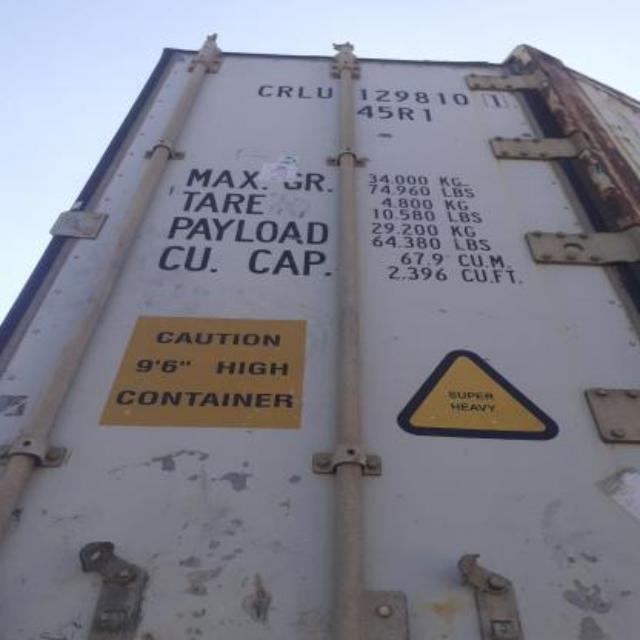0: (454, 88, 470, 108)
1: (482, 92, 512, 108), (432, 82, 448, 110), (356, 82, 372, 105)
2: (376, 82, 390, 106)
8: (413, 85, 431, 105)
9: (391, 82, 409, 106)
C: (258, 79, 274, 103)
L: (297, 80, 313, 104)
R: (278, 79, 292, 105)
U: (316, 80, 334, 104)
